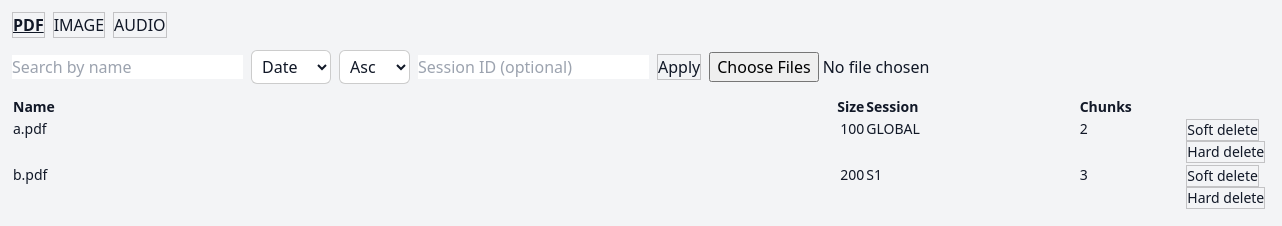
Test: FilesPanel › lists and deletes files
Expected: the text "a.pdf" is shown, [12,118,652,164]
Click the button with test id "hard-f1". click: {"x": 1226, "y": 152}
box: [1186,141,1265,163]
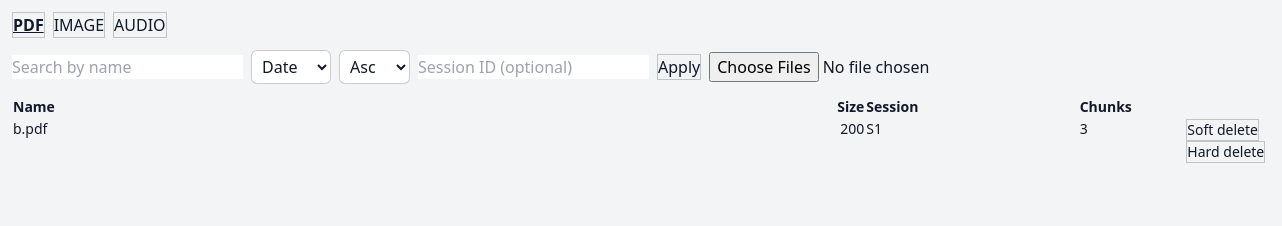
Result: the text "a.pdf" is gone
